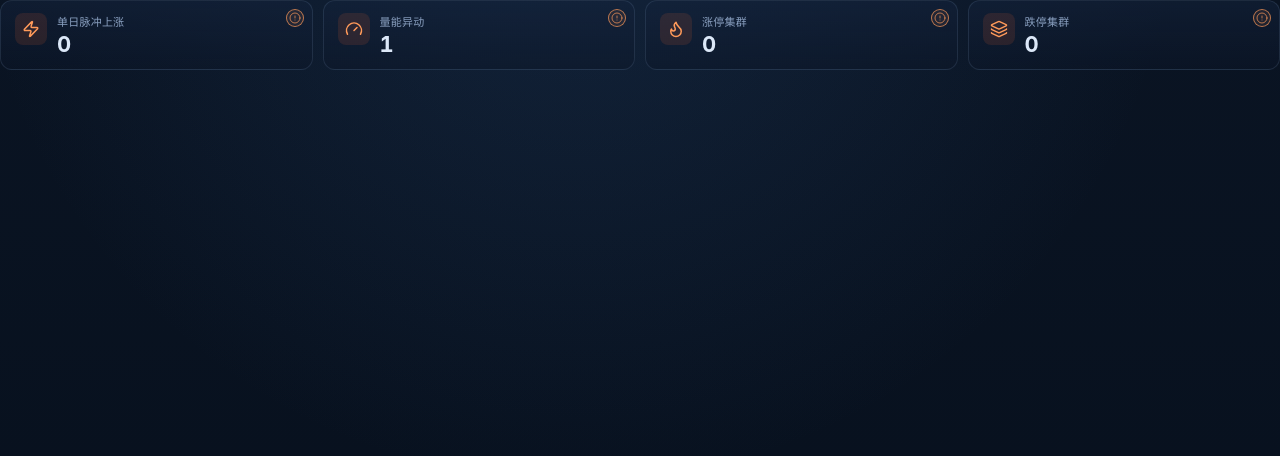
Test: ShortTermKpi › 鼠标离开后悬停浮层关闭
The image size is (1280, 456).
Hover over the text "量能异动" at coordinates (479, 35), box [322, 0, 635, 70]
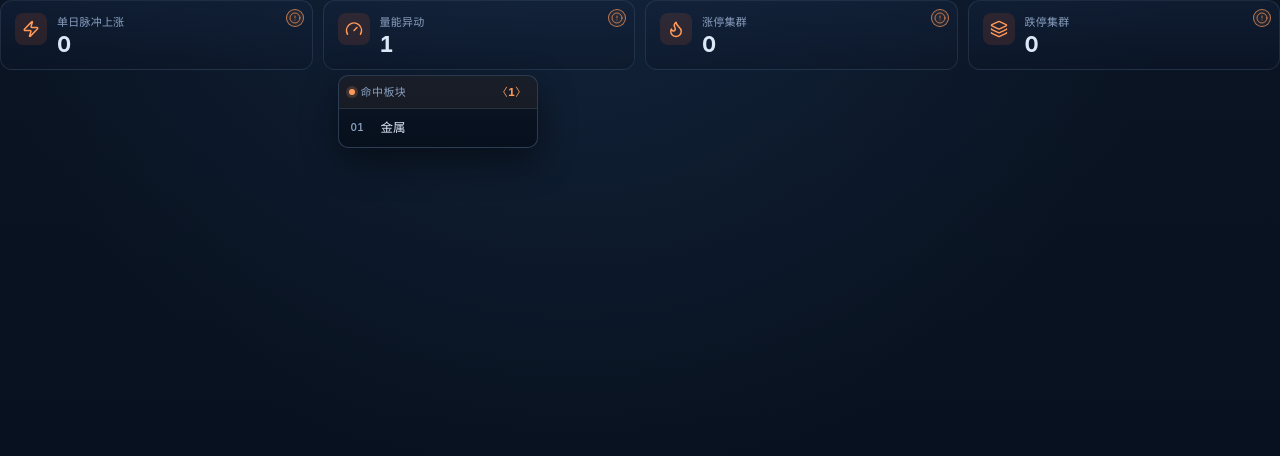
Expected: the text "金属" is shown, [380, 120, 406, 134]
Move the pointer off the text "量能异动", box [322, 0, 635, 70]
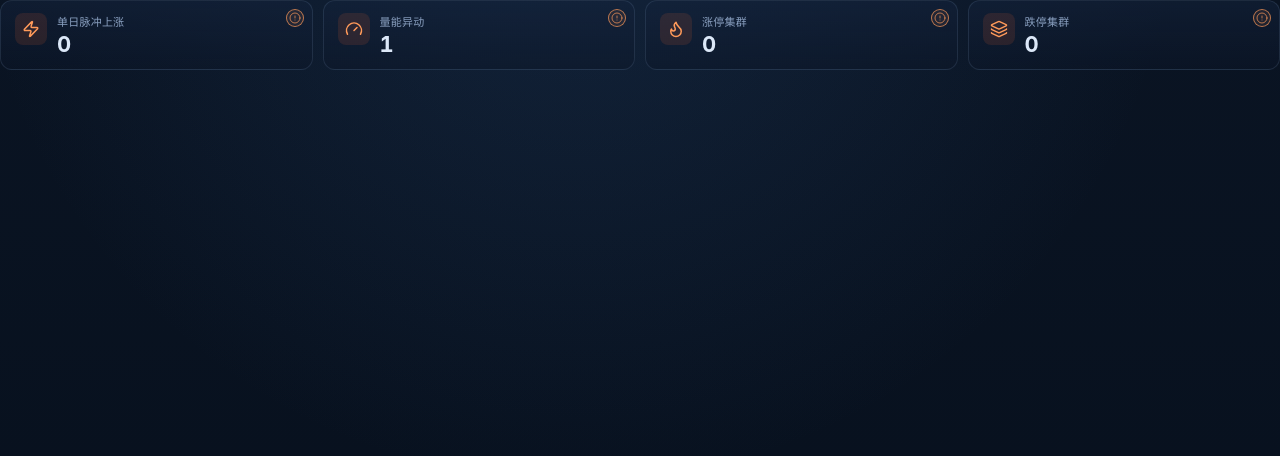
Expected: the button "金属" is gone
